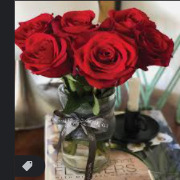RedRose: (70, 29, 141, 85), (24, 33, 68, 76), (139, 34, 174, 68), (109, 7, 154, 32), (13, 12, 55, 37), (60, 6, 96, 31)
